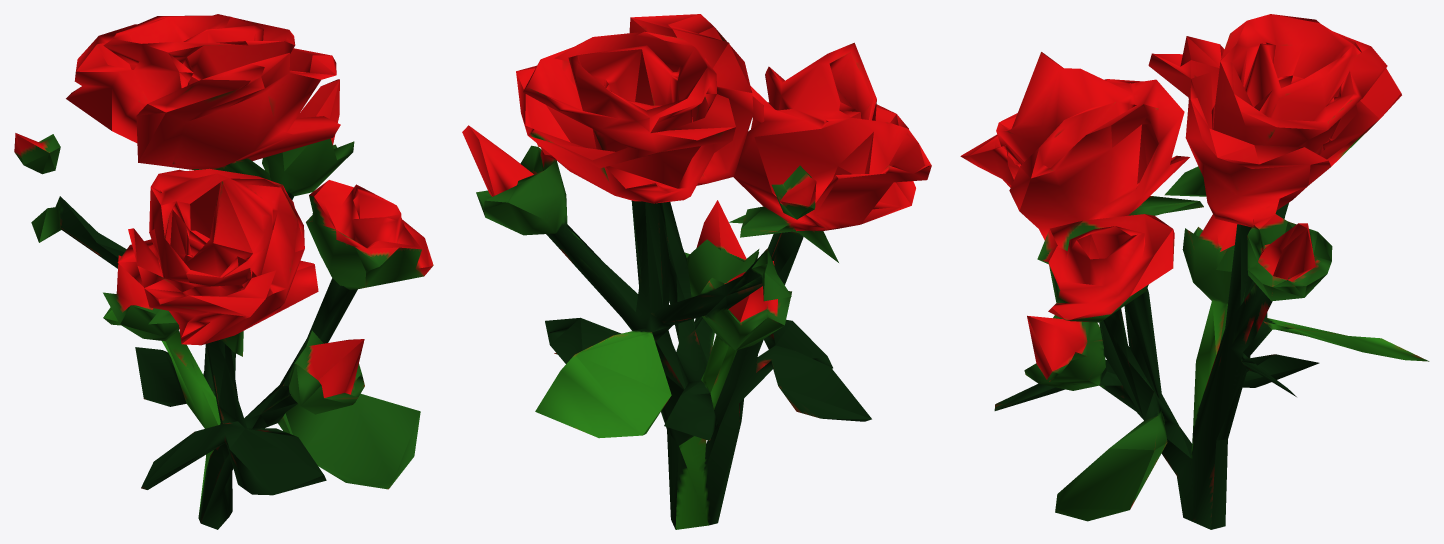
Rendered from rose-bush.glb.
3 views of the same model, side by side, from view 1: azimuth 30°, elevation 25°; view 2: azimuth 150°, elevation 25°; view 3: azimuth 270°, elevation 25° (orthographic). The views are drawn at different scales.
Parts seen in each view (by area): view 1: geometry_0; view 2: geometry_0; view 3: geometry_0.
Part boxes in pixels (bbox=[...]): geometry_0: bbox=[14, 14, 433, 529]; geometry_0: bbox=[462, 14, 931, 529]; geometry_0: bbox=[960, 14, 1429, 529].
Bounding box in the file's own units: 0.7287 × 0.9976 × 0.8648.
1 material, 1 textured.
